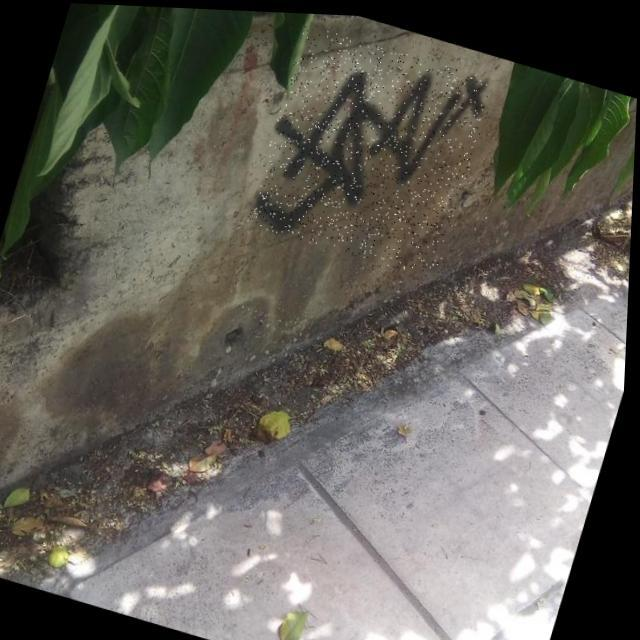-: (247, 19, 498, 277)
